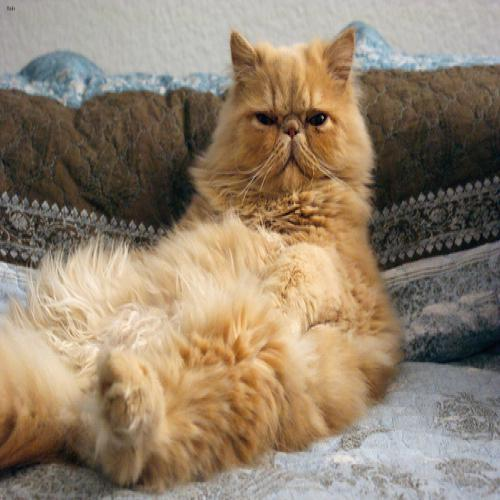persian: (221, 23, 377, 241)
